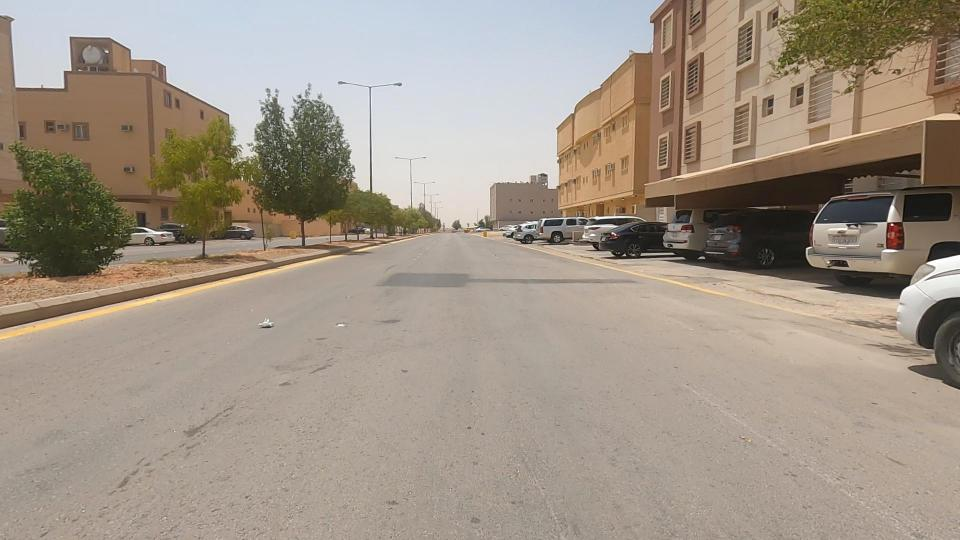GARBAGE: (226, 300, 298, 347)
